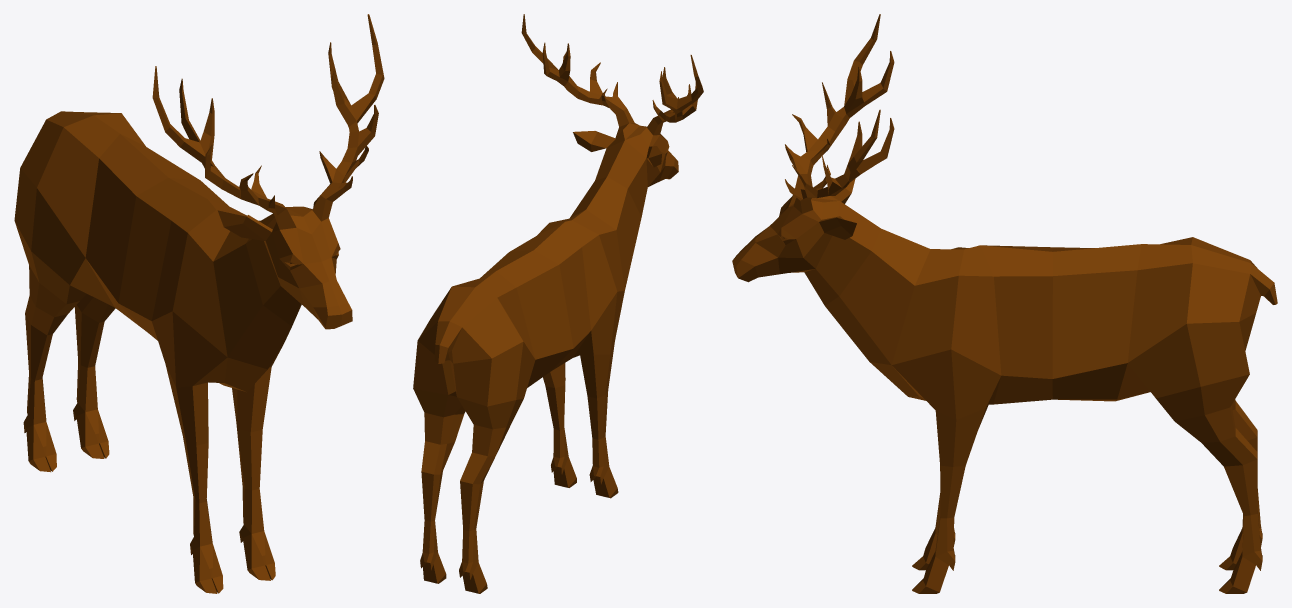
The model's file is deer.gltf.
3 views of the same model, side by side, from view 1: azimuth 30°, elevation 25°; view 2: azimuth 150°, elevation 25°; view 3: azimuth 270°, elevation 25° (orthographic). The views are drawn at different scales.
Parts seen in each view (by area): view 1: ORIGAMI_Cerf; view 2: ORIGAMI_Cerf; view 3: ORIGAMI_Cerf.
Part boxes in pixels (left/top/right/bottom): ORIGAMI_Cerf: left=14, top=14, right=384, bottom=593; ORIGAMI_Cerf: left=413, top=14, right=703, bottom=593; ORIGAMI_Cerf: left=732, top=14, right=1277, bottom=593.
Size of the model in its own units: 3.18 by 7.54 by 7.22.
